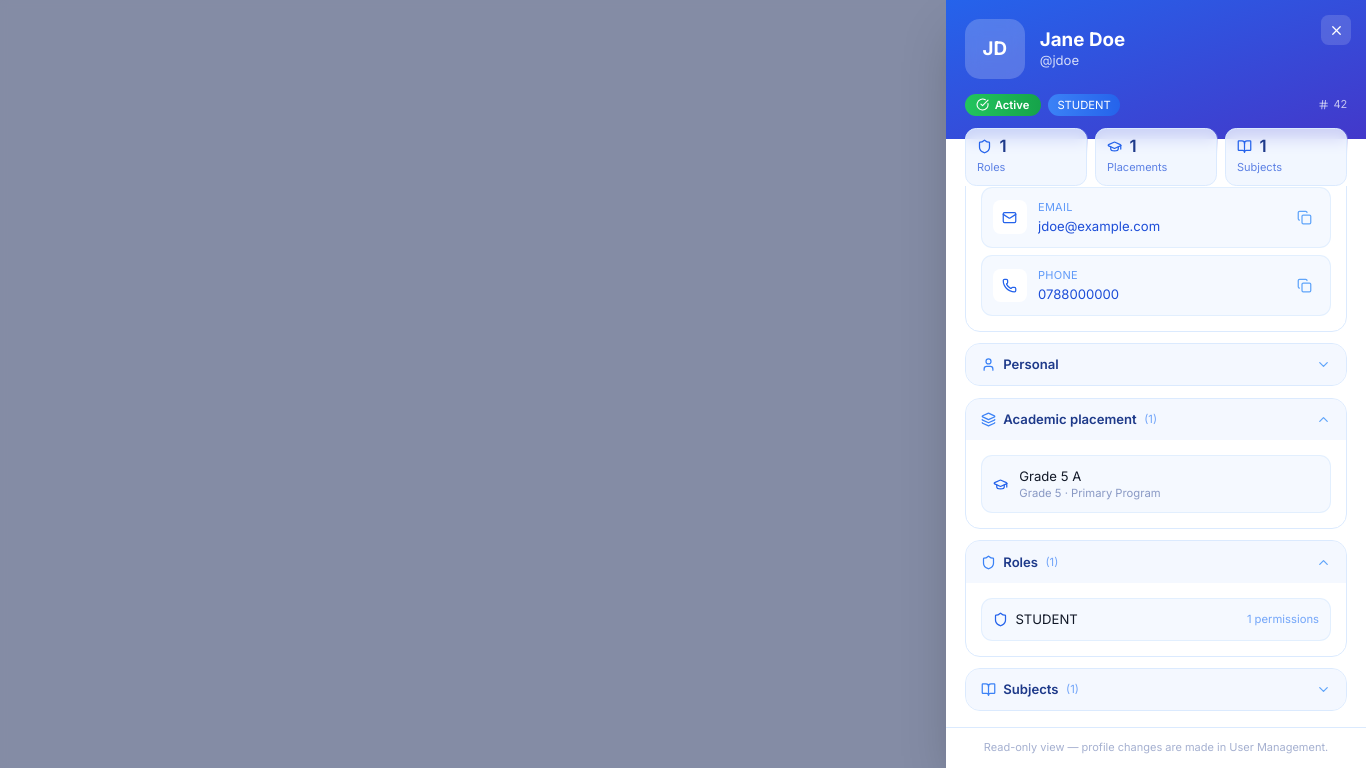
Scenario: UserProfileViewer › shows identity from the row immediately, then the loaded detail
(page scrolled)
Expected: the heading "Jane Doe" is shown, [1040, 28, 1125, 51]
Expected: the text "@jdoe" is shown, [1040, 52, 1079, 68]
Click the button "Subjects (1)". click: (1031, 689)
box: [966, 669, 1346, 710]
(page scrolled)
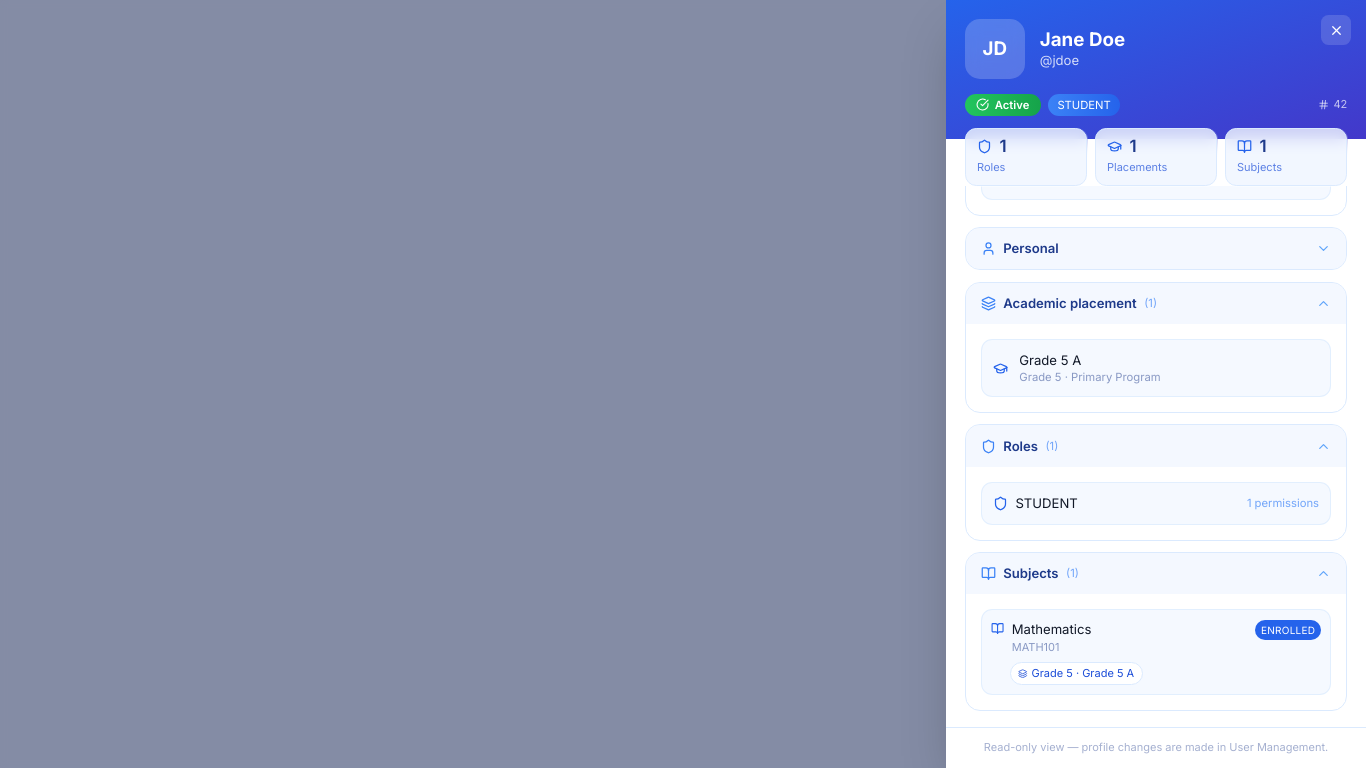
Expected: the text "MATH101" is shown, [1012, 640, 1060, 654]
